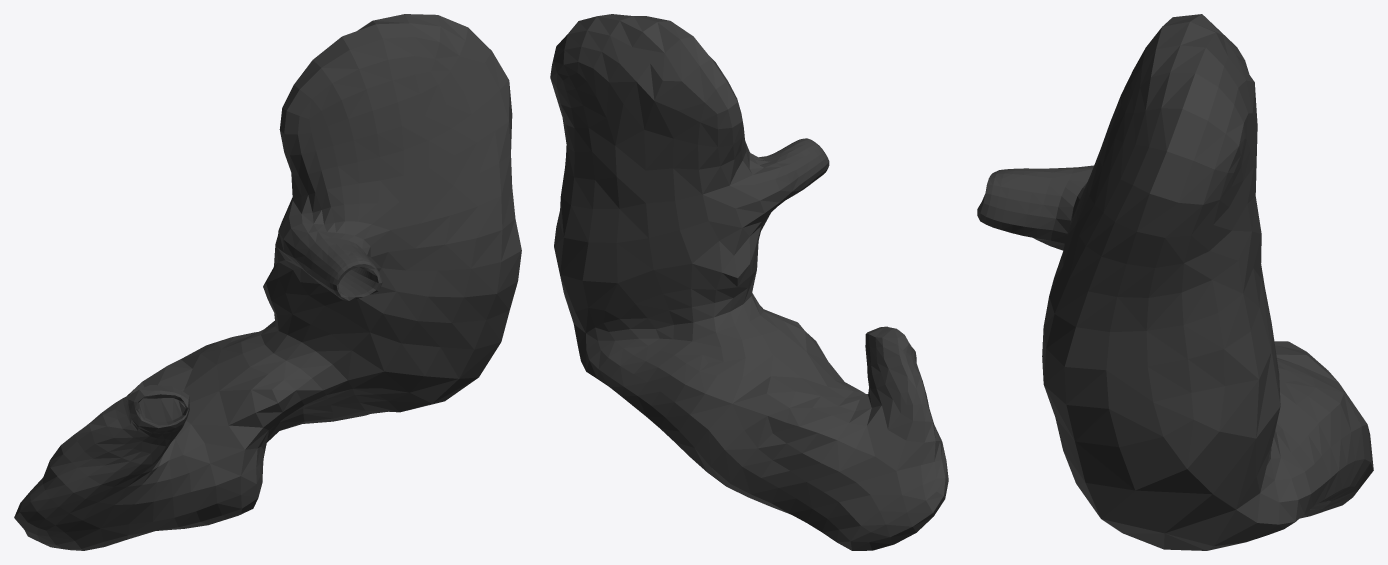
Rendered from Stomach.glb.
3 renders of one model, left to right at view 1: azimuth 30°, elevation 25°; view 2: azimuth 150°, elevation 25°; view 3: azimuth 270°, elevation 25°, orthographic. The views are drawn at different scales.
Visible parts, largest first — view 1: Stomach; view 2: Stomach; view 3: Stomach.
Boxes of the visible parts, x1,y1,x2,y2 form: Stomach: (14,14,521,550); Stomach: (550,14,948,550); Stomach: (977,14,1373,550).
Bounding box in the file's own units: 134 × 138 × 77.32.
Materials: 1 (1 with a texture image).
